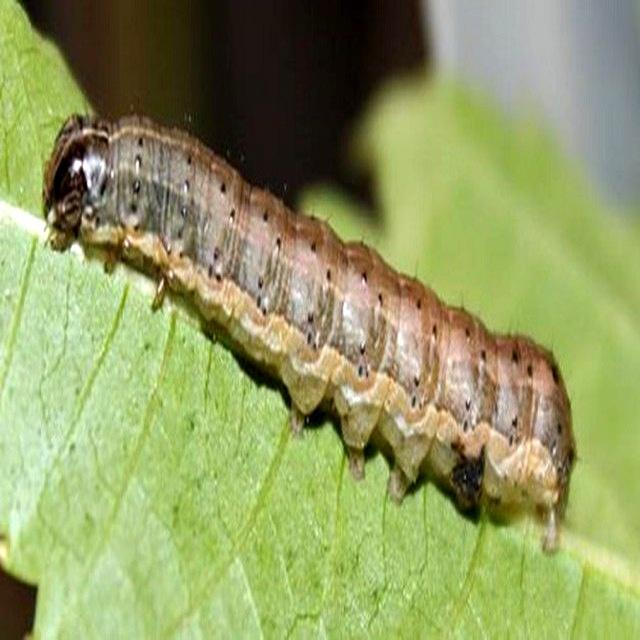worm: (40, 106, 579, 561)
